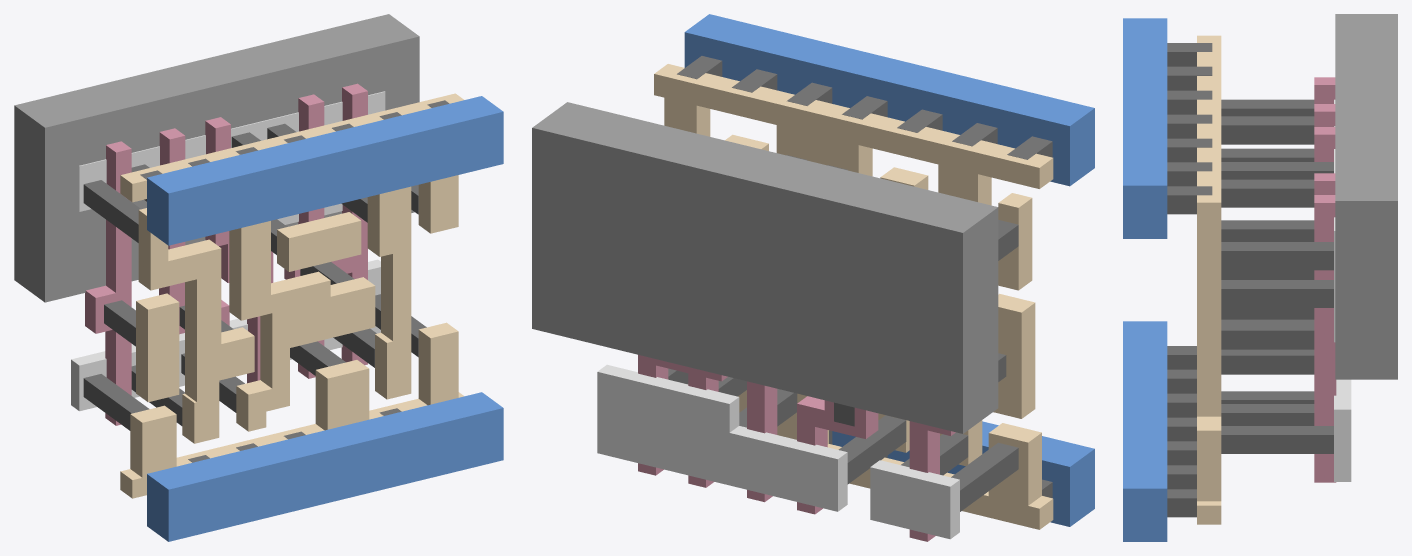
File: sky130_fd_sc_hd__and2b_2.gds.gltf
The picture shows the model from 3 angles, left to right: view 1: azimuth 30°, elevation 25°; view 2: azimuth 150°, elevation 25°; view 3: azimuth 270°, elevation 25°; orthographic projection. The views are drawn at different scales.
Visible parts, largest first — view 1: sky130_fd_sc_hd__and2b_2_li1, sky130_fd_sc_hd__and2b_2_met1, sky130_fd_sc_hd__and2b_2_nwell, sky130_fd_sc_hd__and2b_2_poly, sky130_fd_sc_hd__and2b_2_licon, sky130_fd_sc_hd__and2b_2_diff, sky130_fd_sc_hd__and2b_2_mcon; view 2: sky130_fd_sc_hd__and2b_2_nwell, sky130_fd_sc_hd__and2b_2_li1, sky130_fd_sc_hd__and2b_2_met1, sky130_fd_sc_hd__and2b_2_diff, sky130_fd_sc_hd__and2b_2_licon, sky130_fd_sc_hd__and2b_2_poly, sky130_fd_sc_hd__and2b_2_mcon; view 3: sky130_fd_sc_hd__and2b_2_licon, sky130_fd_sc_hd__and2b_2_nwell, sky130_fd_sc_hd__and2b_2_met1, sky130_fd_sc_hd__and2b_2_mcon, sky130_fd_sc_hd__and2b_2_li1, sky130_fd_sc_hd__and2b_2_poly, sky130_fd_sc_hd__and2b_2_diff.
Boxes of the visible parts, left/top/right/bottom form: sky130_fd_sc_hd__and2b_2_li1: left=120, top=93, right=463, bottom=498; sky130_fd_sc_hd__and2b_2_met1: left=147, top=96, right=503, bottom=541; sky130_fd_sc_hd__and2b_2_nwell: left=14, top=14, right=419, bottom=302; sky130_fd_sc_hd__and2b_2_poly: left=85, top=83, right=367, bottom=425; sky130_fd_sc_hd__and2b_2_licon: left=83, top=123, right=426, bottom=430; sky130_fd_sc_hd__and2b_2_diff: left=71, top=91, right=385, bottom=411; sky130_fd_sc_hd__and2b_2_mcon: left=140, top=100, right=449, bottom=462; sky130_fd_sc_hd__and2b_2_nwell: left=532, top=102, right=998, bottom=433; sky130_fd_sc_hd__and2b_2_li1: left=654, top=64, right=1053, bottom=529; sky130_fd_sc_hd__and2b_2_met1: left=684, top=14, right=1094, bottom=526; sky130_fd_sc_hd__and2b_2_diff: left=597, top=364, right=959, bottom=539; sky130_fd_sc_hd__and2b_2_licon: left=668, top=155, right=1018, bottom=511; sky130_fd_sc_hd__and2b_2_poly: left=638, top=355, right=955, bottom=541; sky130_fd_sc_hd__and2b_2_mcon: left=677, top=56, right=1052, bottom=498; sky130_fd_sc_hd__and2b_2_licon: left=1221, top=99, right=1333, bottom=453; sky130_fd_sc_hd__and2b_2_nwell: left=1335, top=14, right=1397, bottom=379; sky130_fd_sc_hd__and2b_2_met1: left=1123, top=18, right=1167, bottom=541; sky130_fd_sc_hd__and2b_2_mcon: left=1167, top=43, right=1212, bottom=517; sky130_fd_sc_hd__and2b_2_li1: left=1197, top=35, right=1221, bottom=524; sky130_fd_sc_hd__and2b_2_poly: left=1314, top=77, right=1336, bottom=482; sky130_fd_sc_hd__and2b_2_diff: left=1334, top=99, right=1351, bottom=481.
Size of the model in its own units: 3.6 by 3.2 by 2.24.
